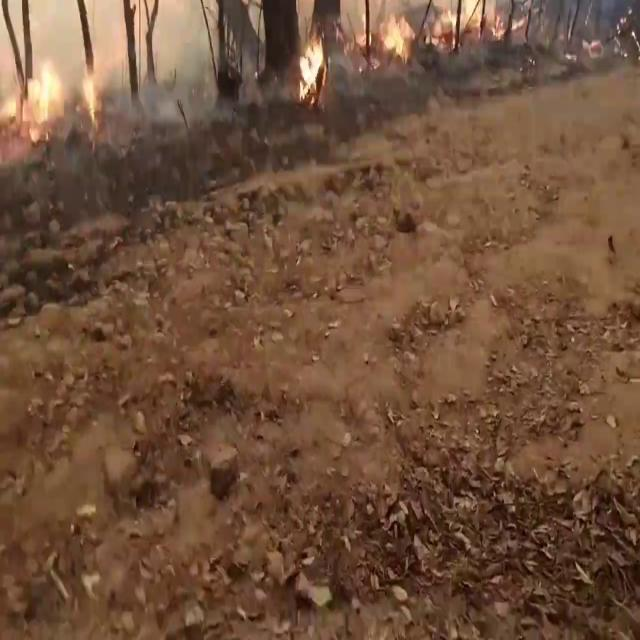Fire: (1, 46, 100, 146), (355, 0, 413, 63), (296, 23, 328, 104)
